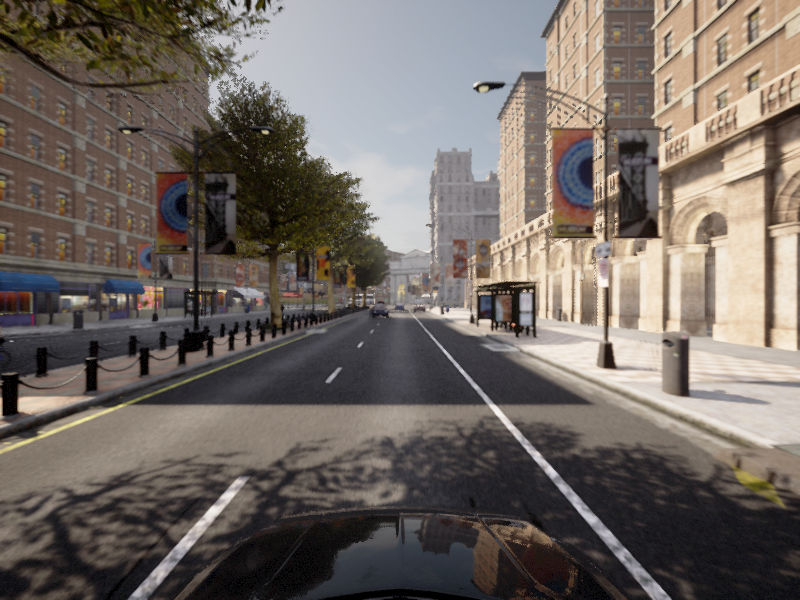vehicle: (1, 312, 25, 377), (368, 305, 389, 318), (274, 302, 286, 321)
